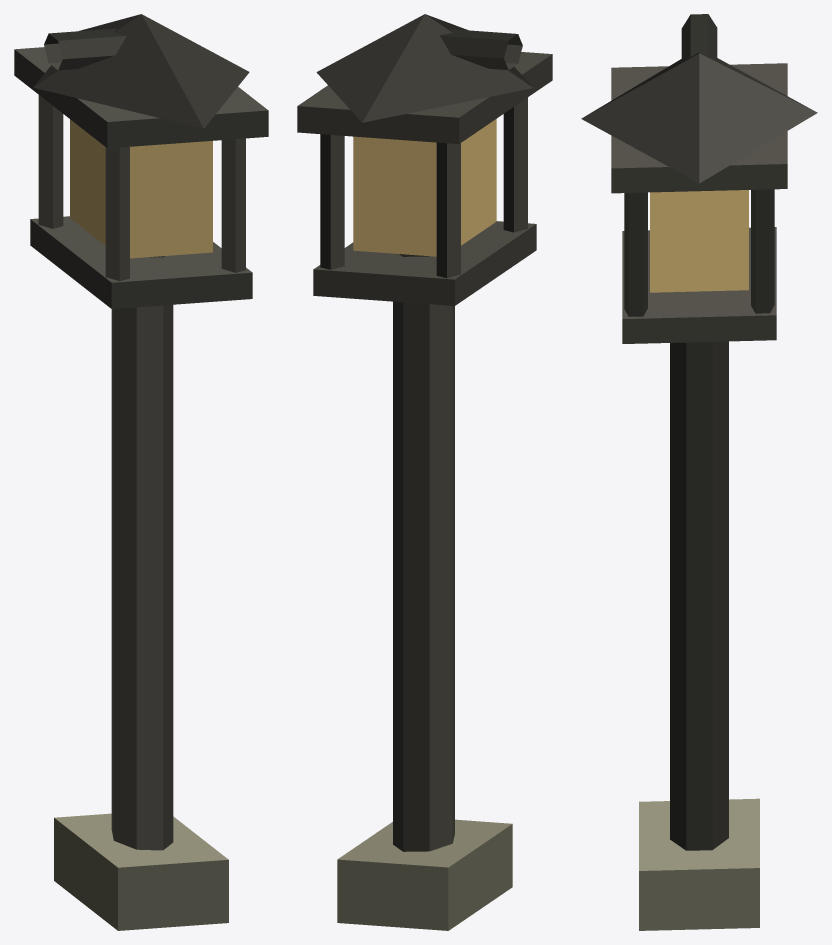
The picture shows the model from 3 angles, left to right: view 1: azimuth 30°, elevation 25°; view 2: azimuth 150°, elevation 25°; view 3: azimuth 270°, elevation 25°; orthographic projection. The views are drawn at different scales.
Parts seen in each view (by area): view 1: f72586398d5dbeae0557920e836c9493b9ce50bb68c99523879014112412; view 2: f72586398d5dbeae0557920e836c9493b9ce50bb68c99523879014112412; view 3: f72586398d5dbeae0557920e836c9493b9ce50bb68c99523879014112412.
Boxes of the visible parts, x1=… form: f72586398d5dbeae0557920e836c9493b9ce50bb68c99523879014112412: x1=14, y1=14, x2=268, y2=930; f72586398d5dbeae0557920e836c9493b9ce50bb68c99523879014112412: x1=297, y1=14, x2=552, y2=930; f72586398d5dbeae0557920e836c9493b9ce50bb68c99523879014112412: x1=581, y1=14, x2=817, y2=930.
Size of the model in its own units: 0.86 by 3.41 by 0.86.
2 materials, 1 textured.
